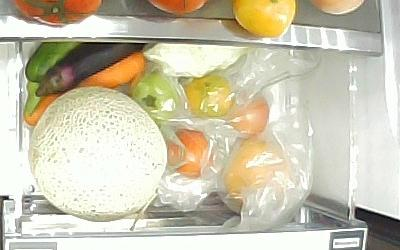cabbage: (144, 42, 246, 76)
carrot: (23, 51, 145, 126)
eggplant: (35, 41, 147, 95)
melon: (28, 86, 166, 221)
pear_vinyl: (223, 141, 288, 195)
prune_vinyl: (168, 128, 212, 177)
tangerine_vinyl: (186, 77, 233, 118)
tomato_vinyl: (133, 74, 179, 123), (226, 90, 269, 134)
zucchini: (25, 41, 80, 116)
